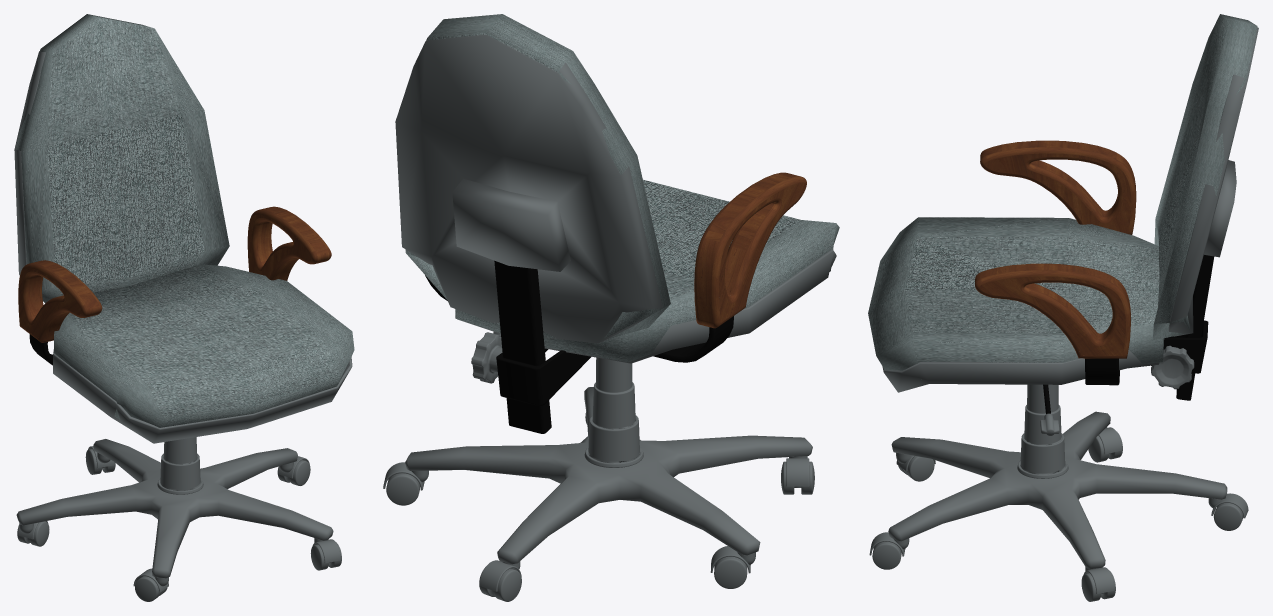
File: chair.glb
3 renders of one model, left to right at view 1: azimuth 30°, elevation 25°; view 2: azimuth 150°, elevation 25°; view 3: azimuth 270°, elevation 25°, orthographic. The views are drawn at different scales.
Parts seen in each view (by area): view 1: Cube, Cube_2, Cylinder, Низ_сидения_3, Выдавливание, Cone, Закругление_1, Закругление_2, Низ_сидения, Шапка_1, Шапка_2, Oil_Tank (+1 smaller); view 2: Низ_сидения, Cylinder, Cube_2, Cube, Стойка_спинки, Cone, Низ_сидения_3, Выдавливание, Extrude_NURBS_2, Закругление_1, Шапка_1, Симметрия_1 (+7 smaller); view 3: Cube_2, Cylinder, Cube, Низ_сидения, Низ_сидения_3, Закругление_1, Выдавливание, Закругление_2, Cone, Шапка_1, Шапка_2, Стойка_спинки (+7 smaller).
Part boxes in pixels (x1,y1,x2,y2): Cube: (15,14,229,303); Cube_2: (54,264,354,427); Cylinder: (16,439,333,578); Низ_сидения_3: (53,349,352,443); Выдавливание: (28,206,329,342); Cone: (157,437,203,494); Закругление_1: (18,206,331,342); Закругление_2: (40,209,317,330); Низ_сидения: (14,51,45,275); Шапка_1: (18,268,82,338); Шапка_2: (248,214,311,278); Oil_Tank: (135,576,167,601); Низ_сидения: (395,34,662,343); Cylinder: (405,387,812,564); Cube_2: (455,179,839,362); Cube: (405,14,670,339); Стойка_спинки: (494,260,551,433); Cone: (584,357,643,467); Низ_сидения_3: (457,249,836,363); Выдавливание: (697,172,799,328); Extrude_NURBS_2: (496,348,591,405); Закругление_1: (711,176,806,328); Шапка_1: (719,183,806,322); Симметрия_1: (425,275,733,362); Cube_2: (868,217,1164,379); Cylinder: (888,411,1227,569); Cube: (1153,14,1257,340); Низ_сидения: (1168,27,1258,336); Низ_сидения_3: (882,350,1159,392); Закругление_1: (975,140,1130,358); Выдавливание: (975,141,1136,355); Закругление_2: (976,147,1135,333); Cone: (1017,384,1068,478); Шапка_1: (979,276,1125,355); Шапка_2: (984,153,1131,318); Стойка_спинки: (1176,255,1214,400).
Bounding box in the file's own units: 6.52 × 9.72 × 6.81.
Materials: 5 (3 with a texture image).
